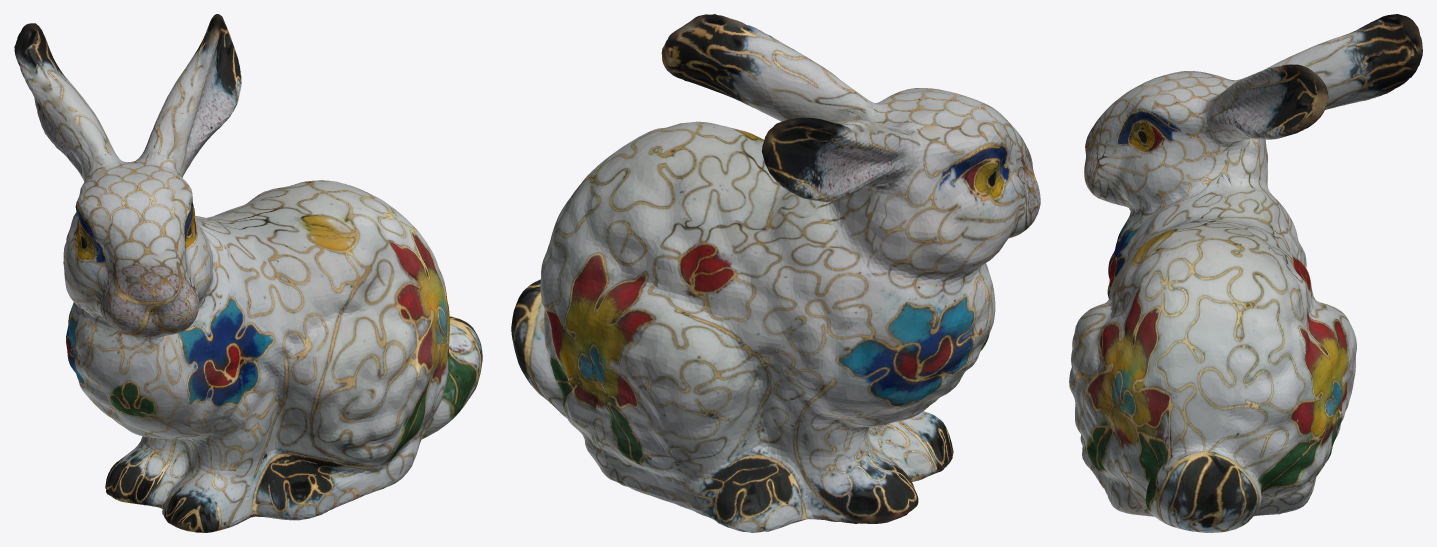
The model's file is bunny.glb.
3 renders of one model, left to right at view 1: azimuth 30°, elevation 25°; view 2: azimuth 150°, elevation 25°; view 3: azimuth 270°, elevation 25°, orthographic. The views are drawn at different scales.
Parts seen in each view (by area): view 1: bunny; view 2: bunny; view 3: bunny.
Part boxes in pixels (box(x1,y1,x2,y2)): bunny: box(14, 14, 482, 532); bunny: box(511, 14, 1040, 532); bunny: box(1069, 14, 1422, 532).
Bounding box in the file's own units: 500 × 495 × 387.
1 material, 1 textured.
